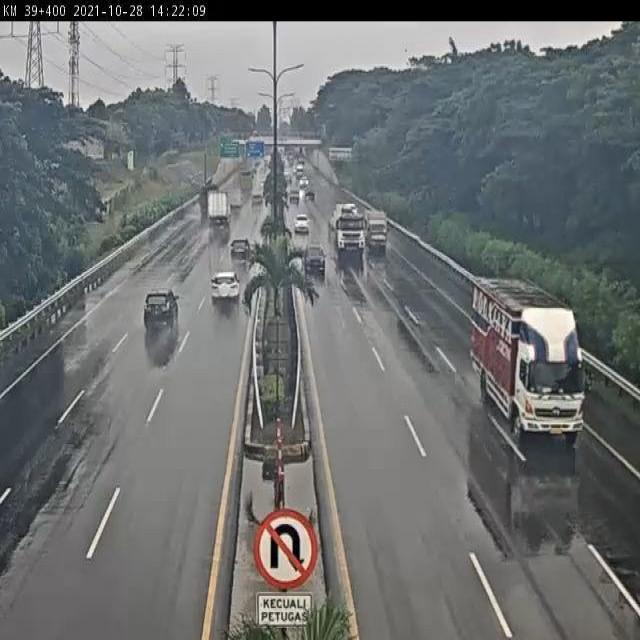car: (142, 288, 182, 333), (209, 268, 241, 308), (301, 242, 326, 274), (228, 235, 252, 264), (294, 213, 311, 236)
truck-l-: (469, 276, 587, 451), (205, 191, 234, 228)
truck-s-: (366, 204, 390, 253)
truck-xl-: (330, 197, 367, 255)
